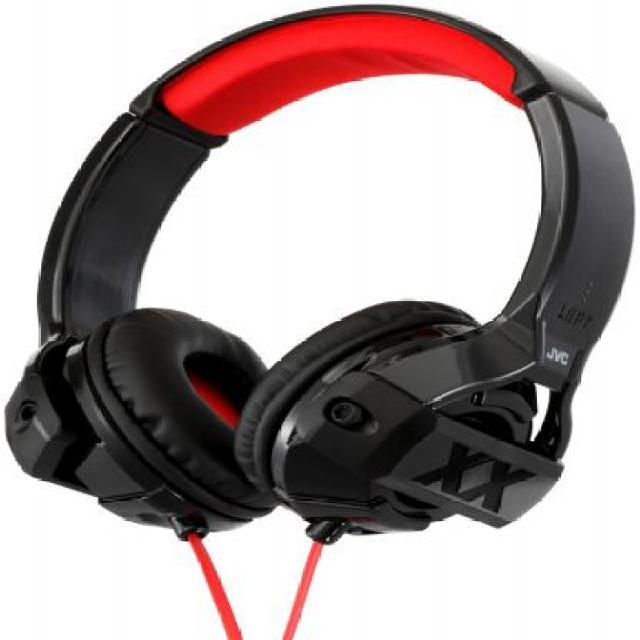earphone: (1, 0, 634, 544)
